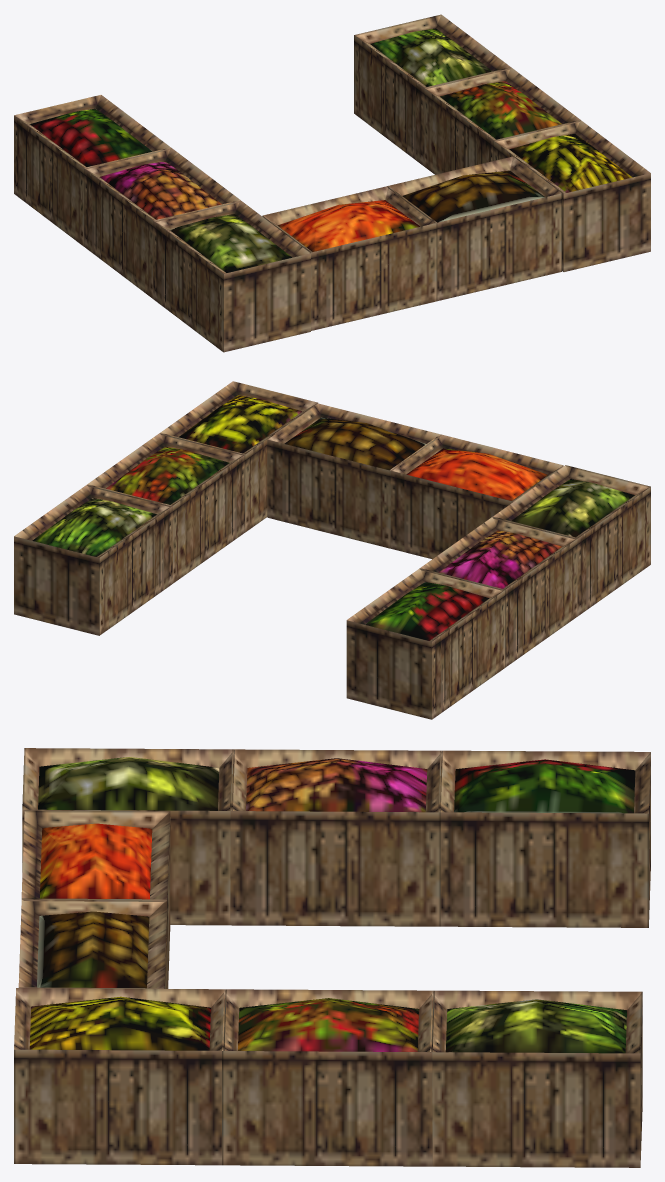
The model's file is produce_bins_b.dae.
The picture shows the model from 3 angles, top to bottom: view 1: azimuth 30°, elevation 25°; view 2: azimuth 150°, elevation 25°; view 3: azimuth 270°, elevation 25°; orthographic projection. The views are drawn at different scales.
Parts seen in each view (by area): view 1: Object88; view 2: Object88; view 3: Object88.
Part boxes in pixels (x1,y1,x2,y2): Object88: (14, 14, 650, 352); Object88: (14, 381, 650, 719); Object88: (14, 748, 650, 1167).
Bounding box in the file's own units: 9.03 × 7.96 × 1.83.
